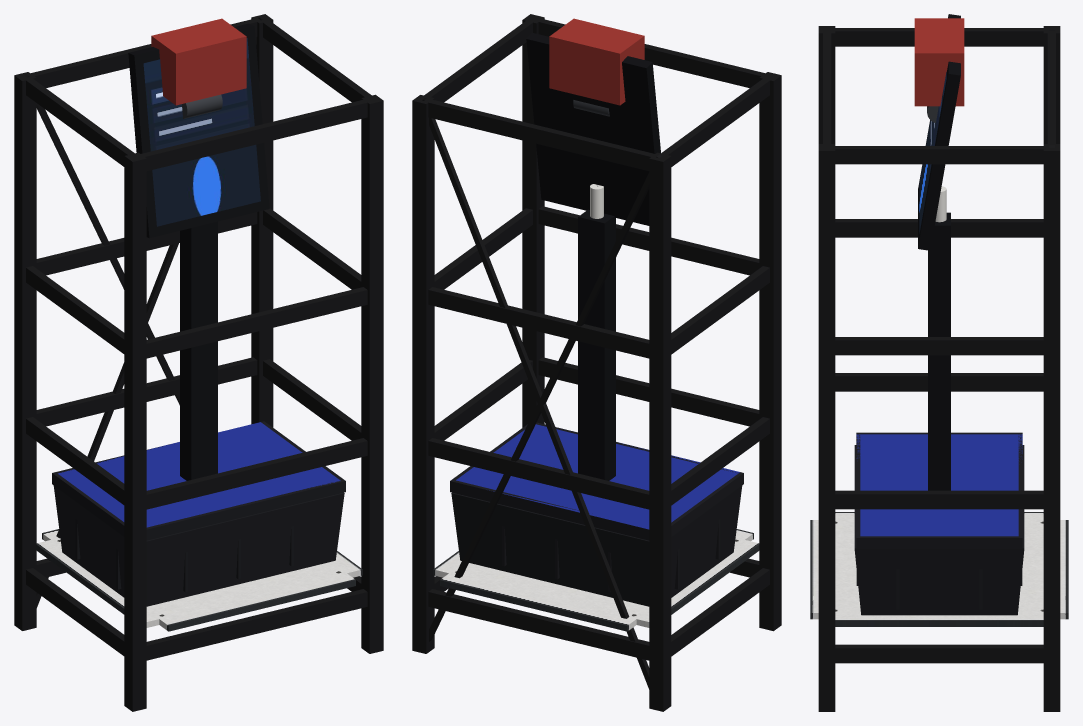
File: asrs-system.glb
3 renders of one model, left to right at view 1: azimuth 30°, elevation 25°; view 2: azimuth 150°, elevation 25°; view 3: azimuth 270°, elevation 25°, orthographic.
Visible parts, largest first — view 1: Frame, Bin_Black, Kiosk, Screen, Bin_Blue, Tile; view 2: Frame, Kiosk, Bin_Black, Bin_Blue, Tile; view 3: Frame, Bin_Black, Bin_Blue, Tile, Kiosk, Screen.
Boxes of the visible parts, x1,y1,x2,y2 form: Frame: [14, 14, 383, 711]; Bin_Black: [52, 421, 345, 606]; Kiosk: [128, 23, 269, 480]; Screen: [143, 38, 260, 226]; Bin_Blue: [58, 422, 340, 527]; Tile: [36, 529, 362, 631]; Frame: [412, 14, 781, 711]; Kiosk: [526, 33, 660, 480]; Bin_Black: [450, 422, 743, 606]; Bin_Blue: [456, 424, 739, 529]; Tile: [433, 529, 759, 631]; Frame: [818, 18, 1060, 711]; Bin_Black: [854, 432, 1024, 615]; Bin_Blue: [856, 434, 1022, 536]; Tile: [810, 512, 1068, 626]; Kiosk: [918, 14, 960, 490]; Screen: [919, 71, 946, 233].
Size of what is drawn, in the model's own units: 0.71 by 1.63 by 0.62.
10 materials, 2 textured.
